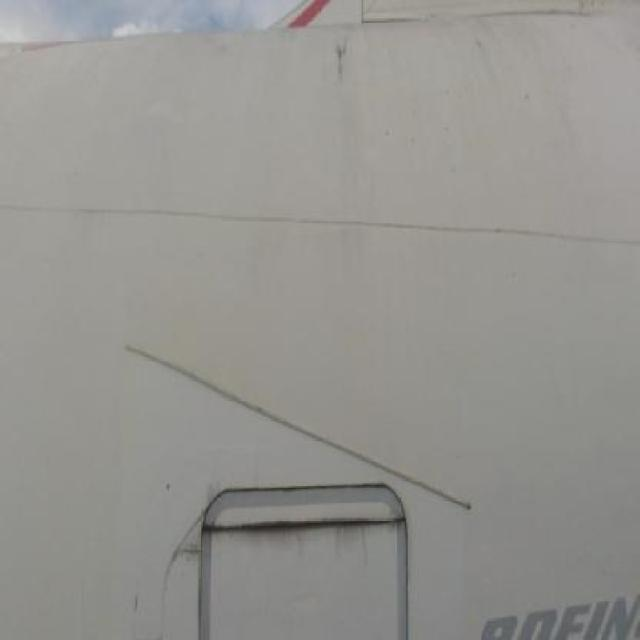Rust: (200, 506, 411, 551), (319, 29, 358, 94)
